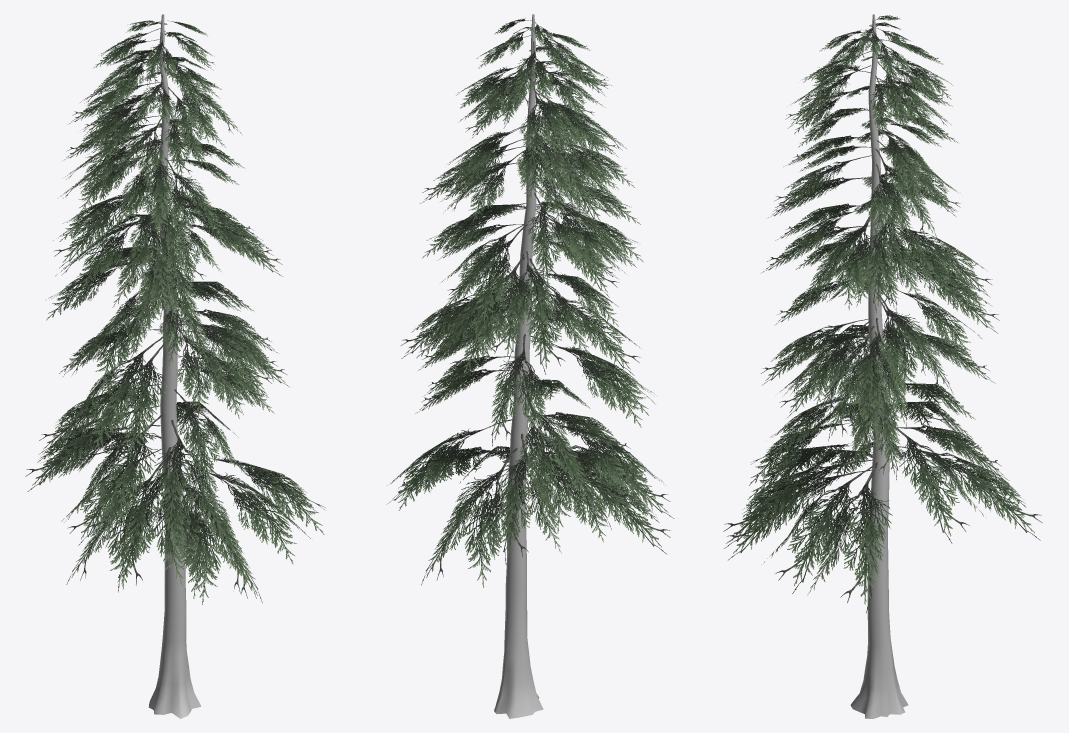
The model's file is tree1.fbx.
The picture shows the model from 3 angles, left to right: view 1: azimuth 30°, elevation 25°; view 2: azimuth 150°, elevation 25°; view 3: azimuth 270°, elevation 25°; orthographic projection.
Visible parts, largest first — view 1: tree1; view 2: tree1; view 3: tree1.
Boxes of the visible parts, x1,y1,x2,y2 form: tree1: [25, 14, 325, 718]; tree1: [386, 14, 674, 718]; tree1: [723, 14, 1042, 718].
Size of the model in its own units: 1352 by 3256 by 1471.
